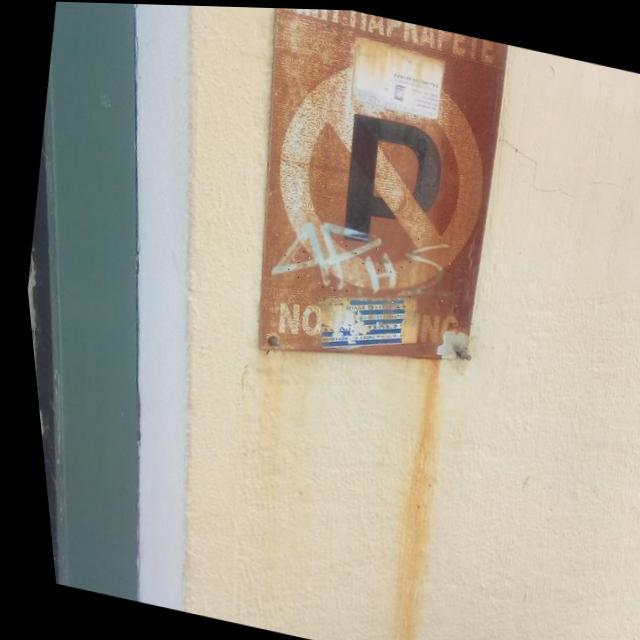-: (260, 206, 453, 317)
